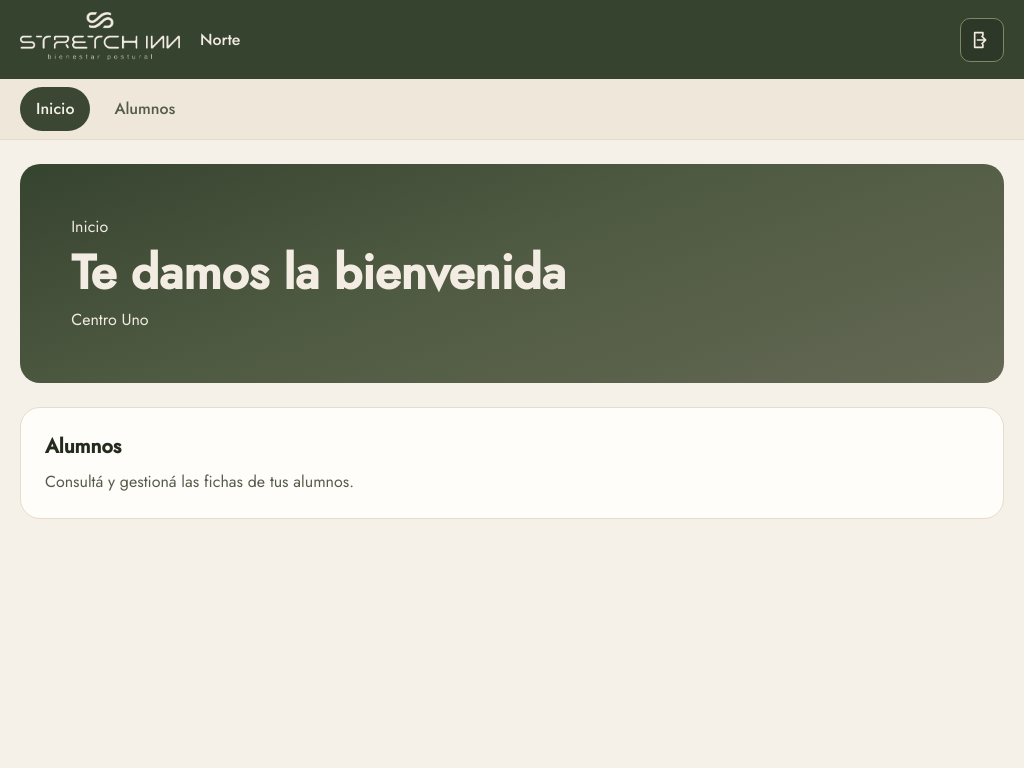
lista › muestra apellido y nombre, teléfono, documento y estado
Click the link "Alumnos".
click(145, 109)  # box [114,97,175,120]
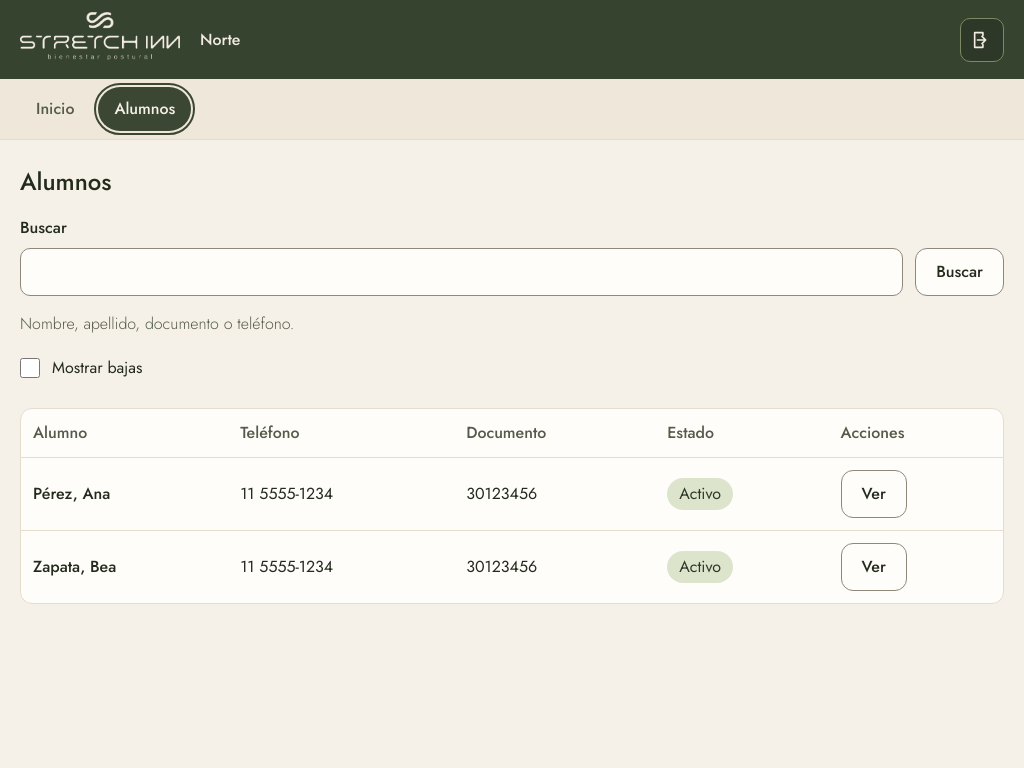
Result: the text "11 5555-1234" in the row of "Pérez" is shown at [240,482,333,505]
Result: the text "30123456" in the row of "Pérez" is shown at [466,482,537,505]
Result: the text "Activo" in the row of "Pérez" is shown at [679,482,721,505]
